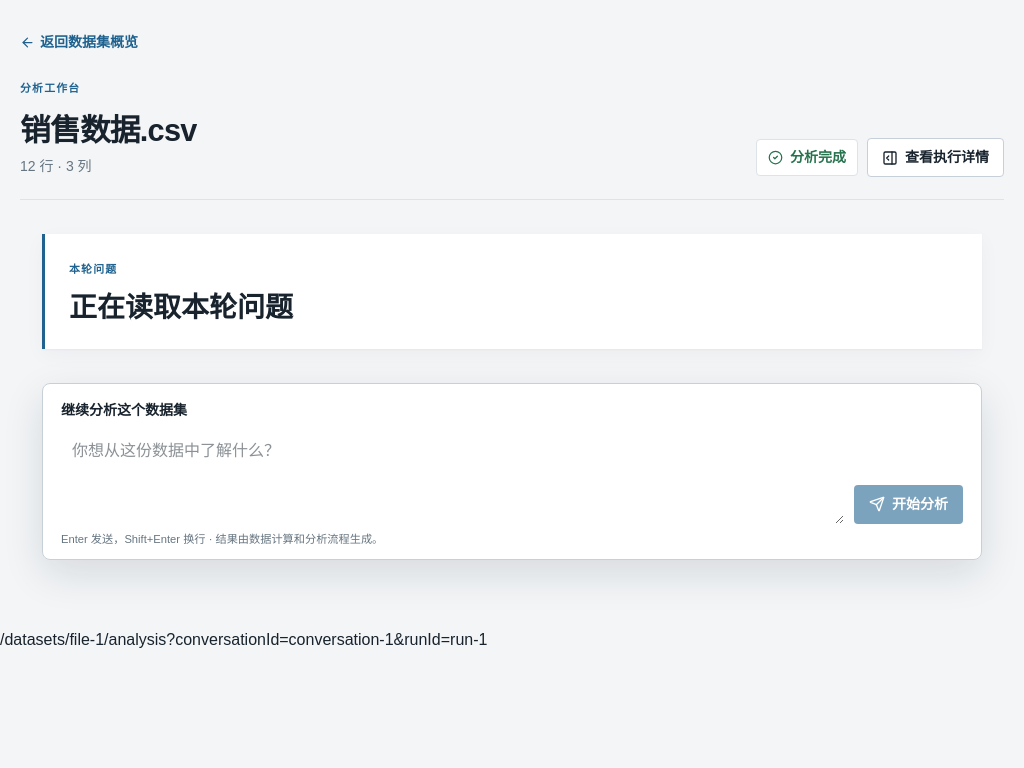
Test: AnalysisWorkbenchPage › shows real steps in a closed-by-default details drawer
Expected: the text "已读取 12 行数据" is not shown
Step 1. Click the button "查看执行详情" → {"x": 936, "y": 158}, box x1=867 y1=138 x2=1004 y2=177
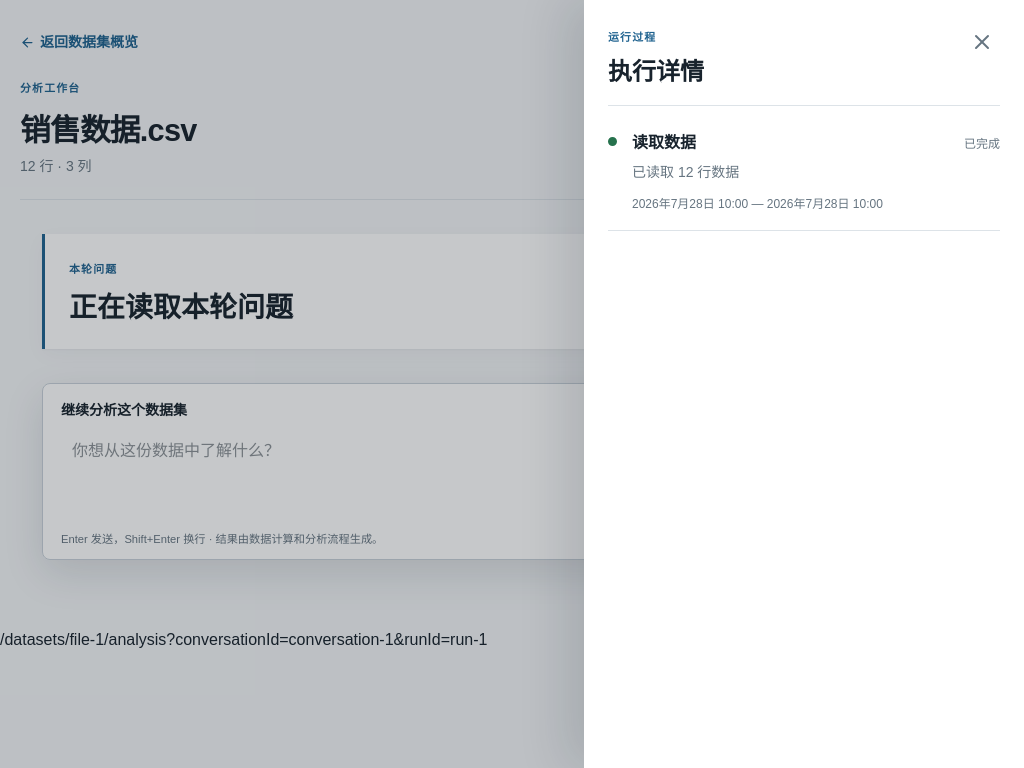
Now the text "读取数据" is shown, box x1=632 y1=131 x2=696 y2=155
Now the text "已读取 12 行数据" is shown, box x1=632 y1=164 x2=739 y2=180
